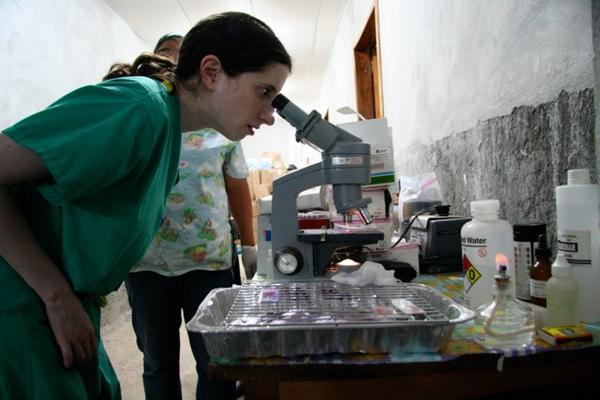person: (3, 13, 291, 400)
